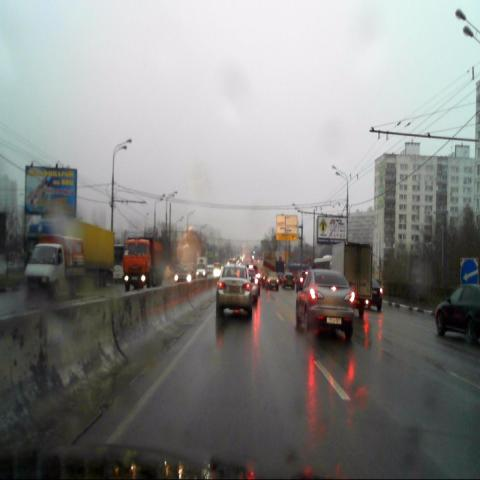4_2_2: (460, 257, 480, 292)
